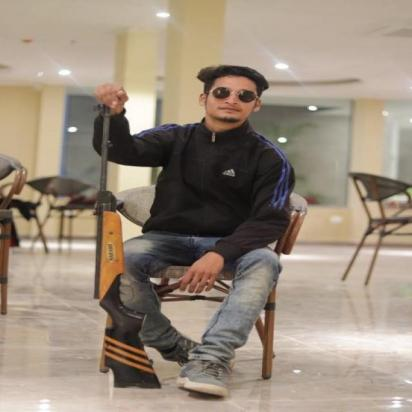Gun: (88, 100, 168, 393)
